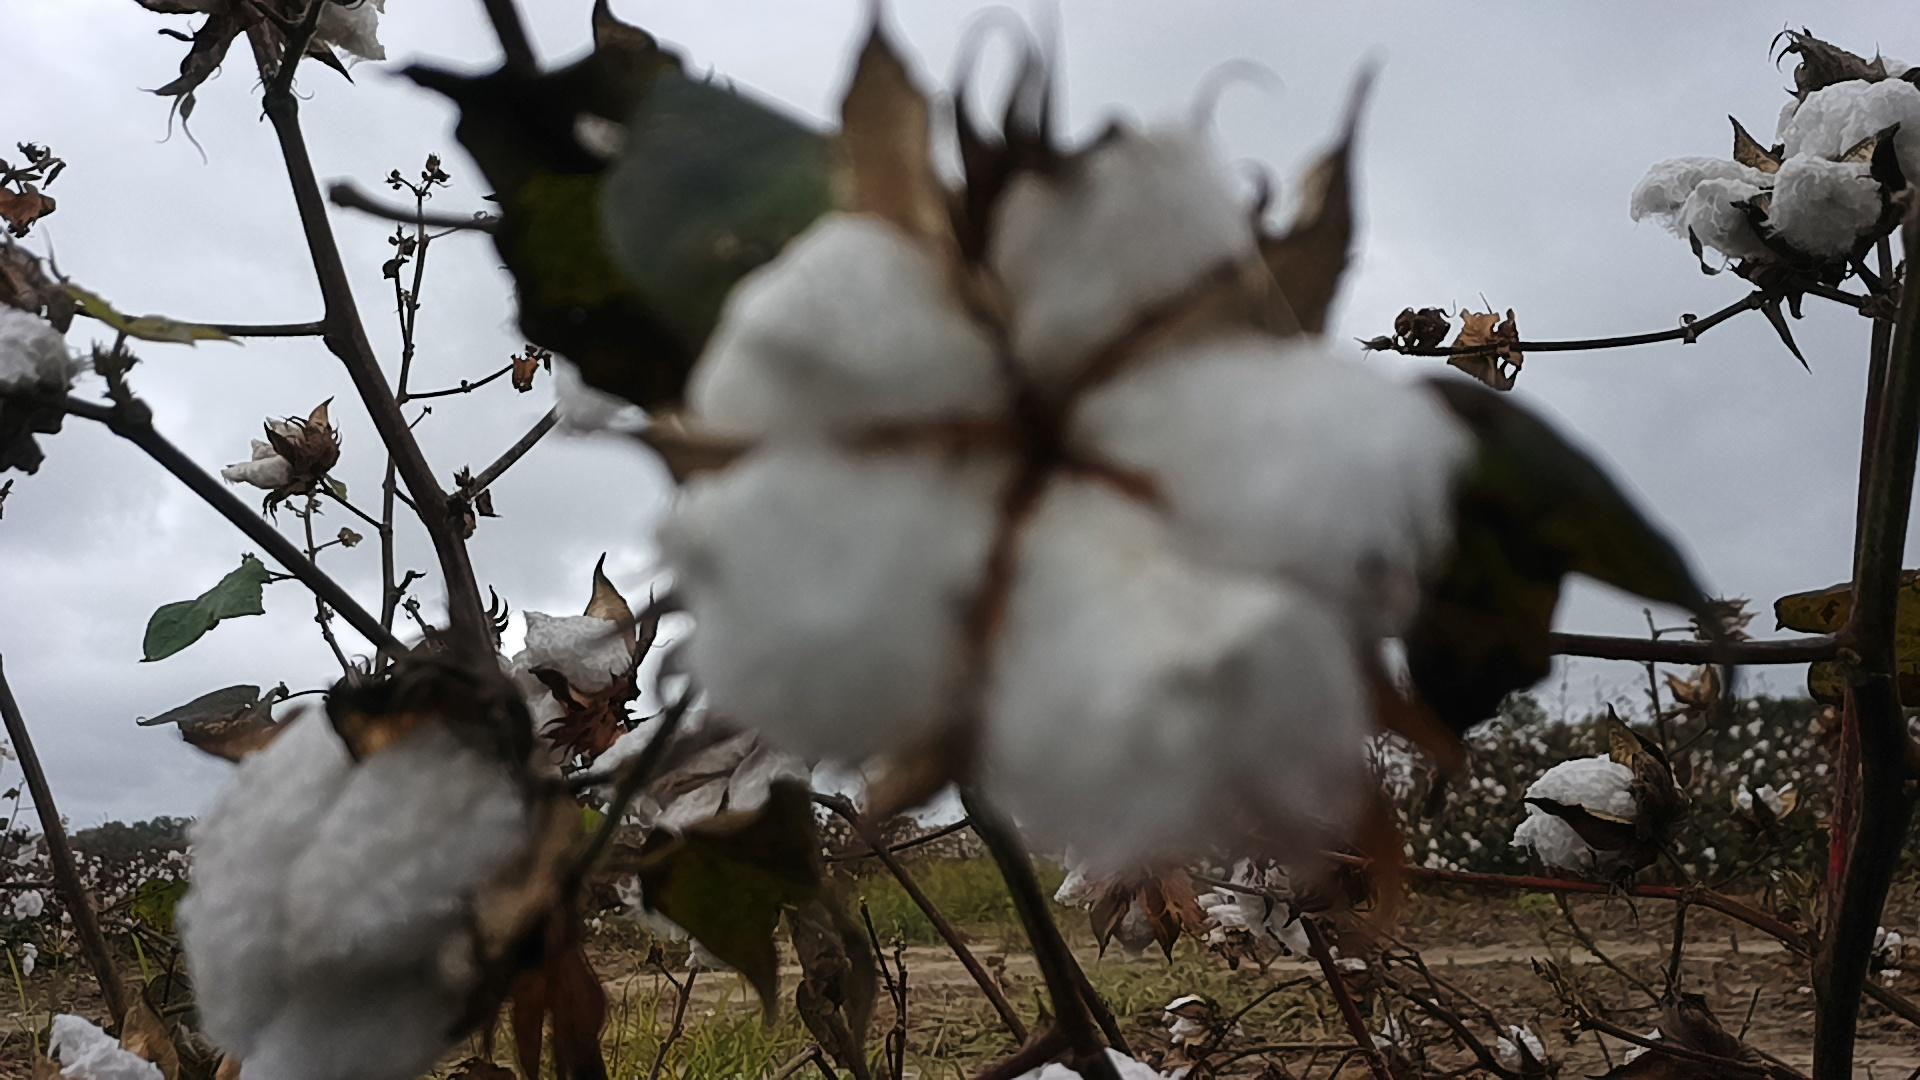cotton_ready: (650, 125, 1474, 877), (175, 716, 546, 1080), (1629, 55, 1920, 270), (655, 703, 812, 843), (502, 603, 638, 733), (1509, 756, 1656, 874), (140, 0, 390, 66), (1197, 877, 1309, 953), (47, 1010, 167, 1080), (222, 419, 332, 489), (0, 299, 78, 388), (553, 357, 628, 440), (1051, 837, 1130, 915), (1007, 1046, 1172, 1080)
